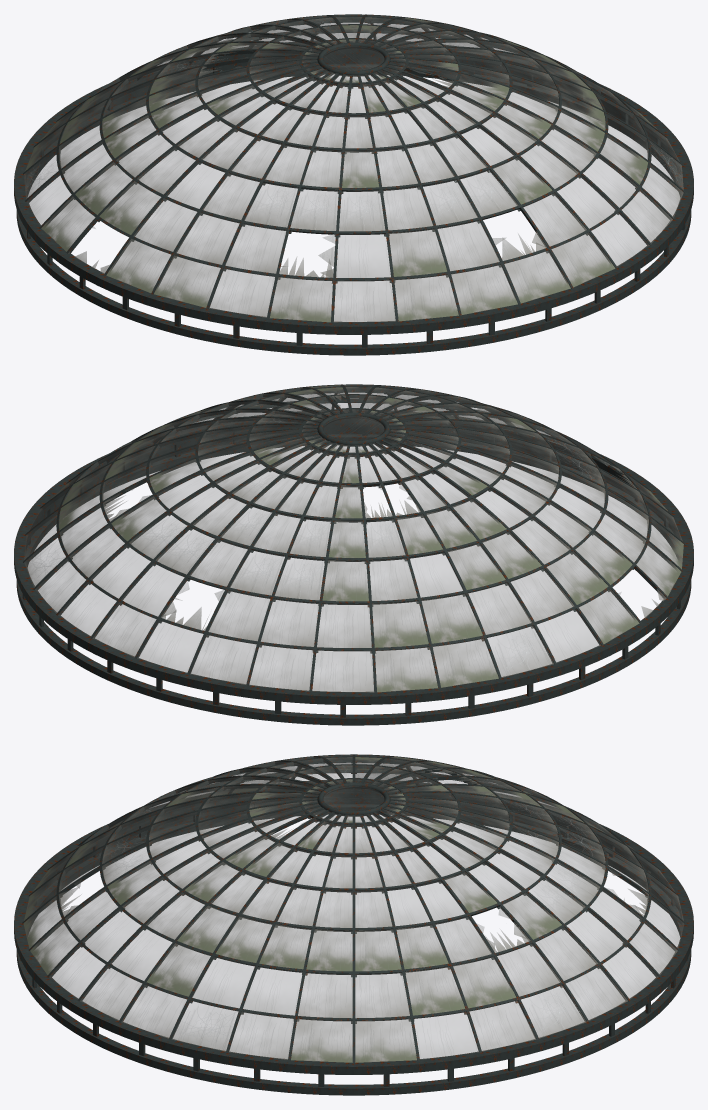
The model's file is sala_cupola.glb.
3 views of the same model, one above another, from view 1: azimuth 30°, elevation 25°; view 2: azimuth 150°, elevation 25°; view 3: azimuth 270°, elevation 25° (orthographic).
Visible parts, largest first — view 1: sala_cupola_vetro, sala_cupola_ferro; view 2: sala_cupola_vetro, sala_cupola_ferro; view 3: sala_cupola_vetro, sala_cupola_ferro.
Boxes of the visible parts, x1,y1,x2,y2 form: sala_cupola_vetro: [24, 15, 683, 322]; sala_cupola_ferro: [14, 14, 693, 355]; sala_cupola_vetro: [24, 385, 683, 692]; sala_cupola_ferro: [14, 384, 693, 725]; sala_cupola_vetro: [23, 755, 683, 1062]; sala_cupola_ferro: [14, 754, 693, 1095].
Bounding box in the file's own units: 26.35 × 6.67 × 26.35.
Materials: 2 (2 with a texture image).
